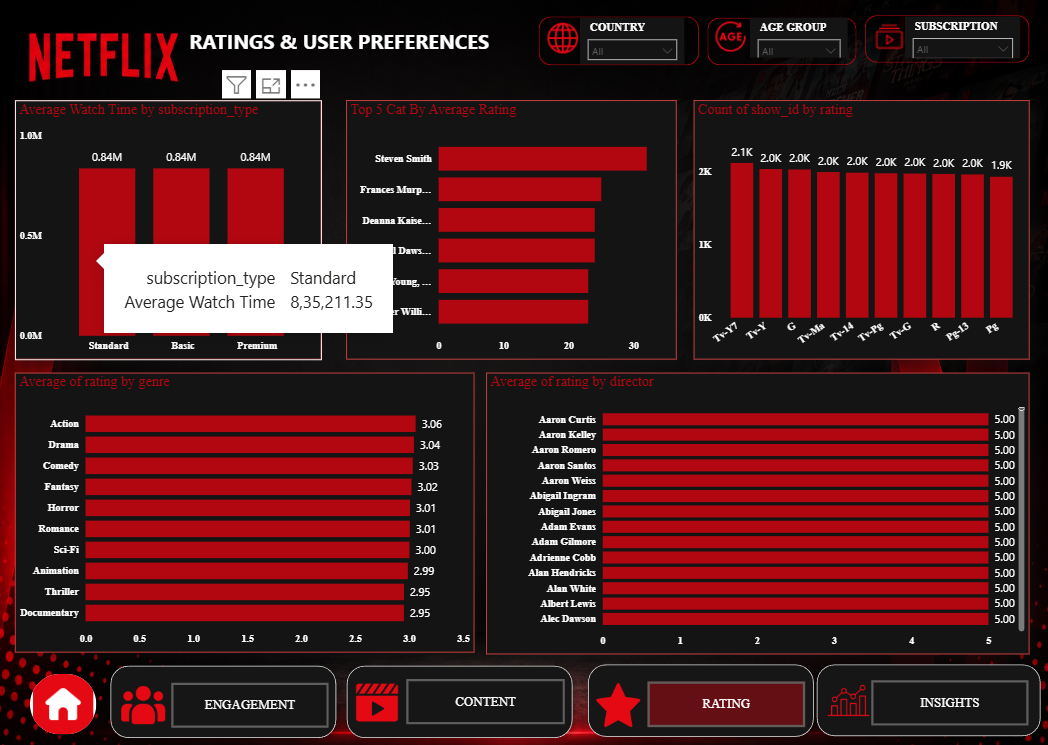

The dashboard page shown, as its layout file describes it:
{"tool":"powerbi","page":{"name":"Page 4","canvas":[1390,990],"ordinal":4},"visuals":[{"type":"shape","box":[451.4,875.3,317.5,113.8],"z":0},{"type":"shape","box":[137.6,876.2,317.5,113.8],"z":1000},{"type":"textbox","box":[40.7,51.8,724.6,73.9],"z":2000},{"type":"shape","box":[682.6,28.6,218.1,66.5],"z":3000},{"type":"slicer","fields":{"Values":["netflix_customer_ratings_20000.country"]},"box":[736.2,36,157.1,55.5],"z":4000},{"type":"image","box":[695.6,36,44.4,40.7],"z":5000},{"type":"shape","box":[911.7,27.2,214.4,68.4],"z":6000},{"type":"slicer","fields":{"Values":["netflix_customer_ratings_20000.Age Group"]},"box":[970.8,34.6,142.3,53.6],"z":7000},{"type":"shape","box":[1133.9,27.3,218.1,68.4],"z":8000},{"type":"image","box":[921.9,32.4,44.5,40.3],"z":9000},{"type":"slicer","fields":{"Values":["netflix_customer_ratings_20000.subscription_type"]},"box":[1185.2,32.8,153.4,55.5],"z":10000},{"type":"image","box":[1142.7,33,44.5,40.3],"z":11000},{"type":"image","box":[39.8,895.8,87.9,79.6],"z":12000},{"type":"actionButton","title":"ENgagement off","box":[226.9,907,209,59.7],"z":13000},{"type":"actionButton","title":"content off","box":[539.7,902.6,210.6,60.2],"z":16000},{"type":"image","box":[161.5,897.4,58.7,78.9],"z":17000},{"type":"image","box":[471.6,893.7,58.7,78.9],"z":18000},{"type":"shape","box":[771.2,874.8,317.5,113.8],"z":19000},{"type":"actionButton","title":"Rating off","box":[859.5,903.9,208.9,61],"z":21000},{"type":"image","box":[790.9,897.4,58.7,78.9],"z":22000},{"type":"shape","box":[1075.1,874.3,314.9,113],"z":23000},{"type":"actionButton","title":"INSIGHTS on","box":[1157.1,903.9,208.9,61],"z":24000},{"type":"image","box":[1096.6,891,59.3,79.7],"z":26000},{"type":"scatterChart","title":"Average Rating,Watch time & Customers By Country","fields":{"X":["Avg(netflix_customer_ratings_20000.rating)"],"Y":["Formulas.Total Watch Time"],"Category":["netflix_customer_ratings_20000.country"],"Series":["netflix_customer_ratings_20000.country"],"Size":["CountNonNull(netflix_customer_ratings_20000.customer_id)"]},"box":[40.7,138.6,724.6,378.9],"z":27000},{"type":"hundredPercentStackedColumnChart","fields":{"Category":["netflix_dataset_20000.type"],"Y":["CountNonNull(netflix_customer_ratings_20000.country)"],"Series":["netflix_customer_ratings_20000.rating"]},"box":[780,138.6,563.8,378.9],"z":28000},{"type":"hundredPercentStackedBarChart","fields":{"Category":["netflix_dataset_20000.country"],"Y":["CountNonNull(netflix_dataset_20000.title)"],"Series":["netflix_dataset_20000.rating"]},"box":[37,536,728.3,338.3],"z":29000},{"type":"textbox","box":[778.2,536,563.8,336.4],"z":30000}]}

Visuals, with their boxes in screenshot pixels (x1, y1, x2, y2), scaled from the page's 1390x990 canvas onto the 1048x745 screenshot:
shape: (340, 659, 580, 744)
shape: (104, 659, 343, 744)
textbox: (31, 39, 577, 95)
shape: (515, 22, 679, 72)
slicer - netflix_customer_ratings_20000.country: (555, 27, 674, 69)
image: (524, 27, 558, 58)
shape: (687, 20, 849, 72)
slicer - netflix_customer_ratings_20000.Age Group: (732, 26, 839, 66)
shape: (855, 21, 1019, 72)
image: (695, 24, 729, 55)
slicer - netflix_customer_ratings_20000.subscription_type: (894, 25, 1009, 66)
image: (862, 25, 895, 55)
image: (30, 674, 96, 734)
"ENgagement off" actionButton: (171, 683, 329, 727)
"content off" actionButton: (407, 679, 566, 725)
image: (122, 675, 166, 735)
image: (356, 673, 400, 732)
shape: (581, 658, 821, 744)
"Rating off" actionButton: (648, 680, 806, 726)
image: (596, 675, 641, 735)
shape: (811, 658, 1047, 743)
"INSIGHTS on" actionButton: (872, 680, 1030, 726)
image: (827, 670, 871, 730)
"Average Rating,Watch time & Customers By Country" scatterChart: (31, 104, 577, 389)
hundredPercentStackedColumnChart - netflix_dataset_20000.type x CountNonNull(netflix_customer_ratings_20000.country): (588, 104, 1013, 389)
hundredPercentStackedBarChart - netflix_dataset_20000.country x CountNonNull(netflix_dataset_20000.title): (28, 403, 577, 658)
textbox: (587, 403, 1012, 657)
